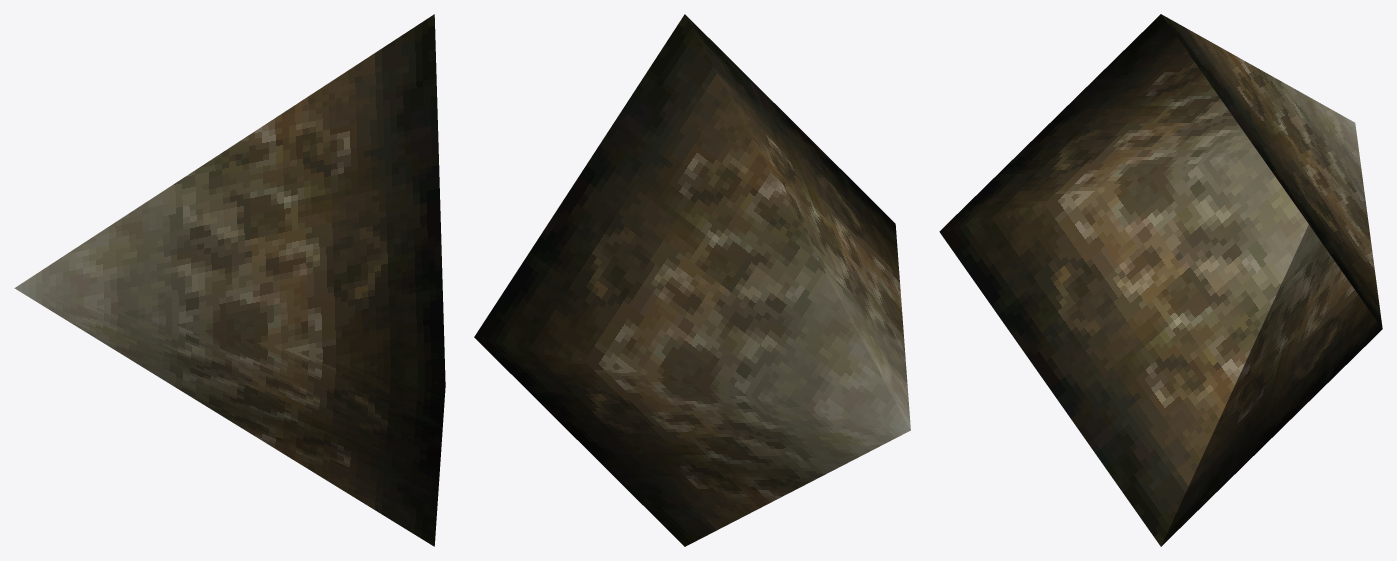
File: OVERHILL_A_01_PLANE50.fbx
3 views of the same model, side by side, from view 1: azimuth 30°, elevation 25°; view 2: azimuth 150°, elevation 25°; view 3: azimuth 270°, elevation 25° (orthographic).
Visible parts, largest first — view 1: OVERHILL_A_01_PLANE50; view 2: OVERHILL_A_01_PLANE50; view 3: OVERHILL_A_01_PLANE50.
Boxes of the visible parts, box(x1,y1,x2,y2) form: OVERHILL_A_01_PLANE50: box(14, 14, 445, 546); OVERHILL_A_01_PLANE50: box(474, 14, 910, 546); OVERHILL_A_01_PLANE50: box(939, 14, 1382, 546).
Size of the model in its own units: 2103 by 2531 by 1909.
Materials: 1 (1 with a texture image).
